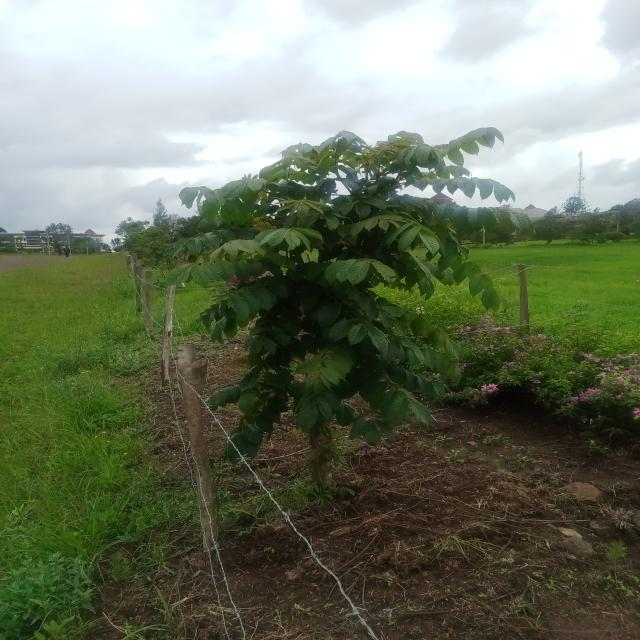Polyscias Kikuyensis: (170, 119, 521, 490)
